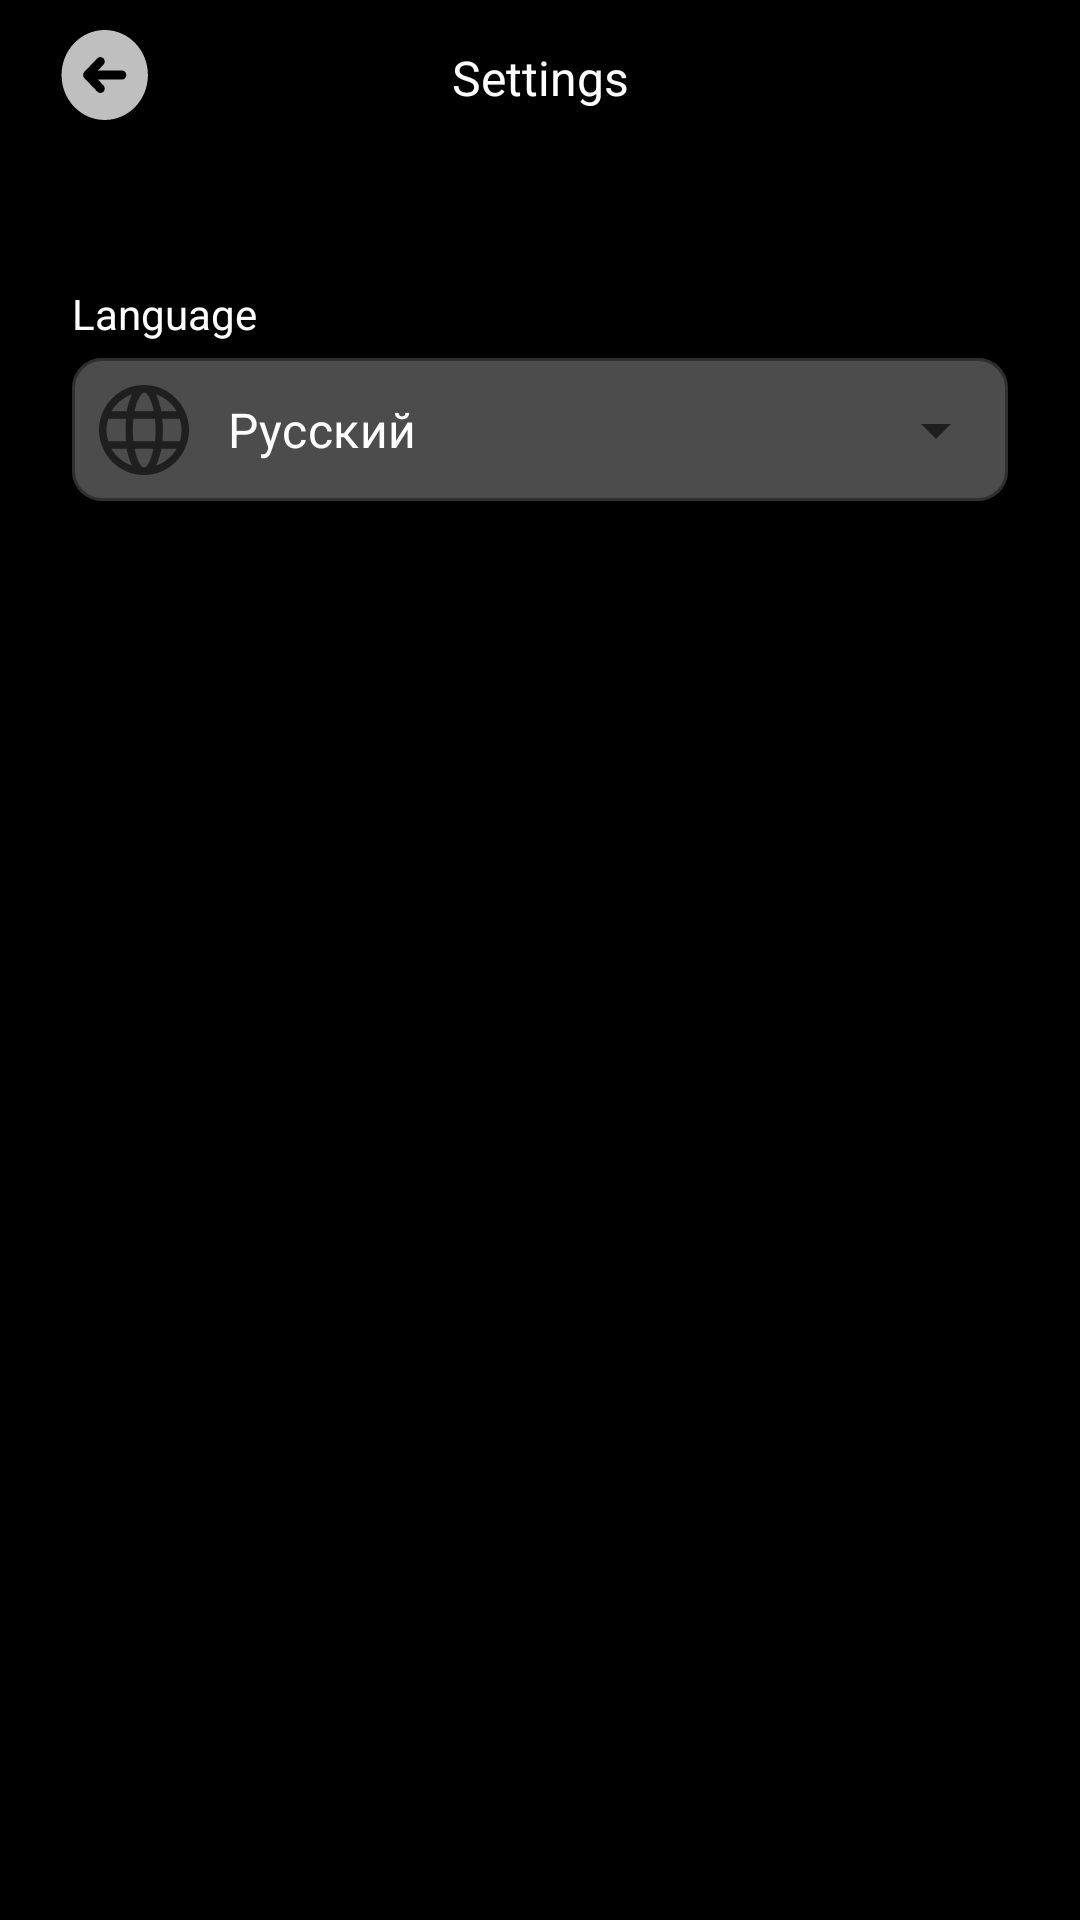

Where icons sit on this 1080w x 1920h app screen, as rect(x1, y1, x2, y2):
back button: rect(61, 30, 148, 120)
